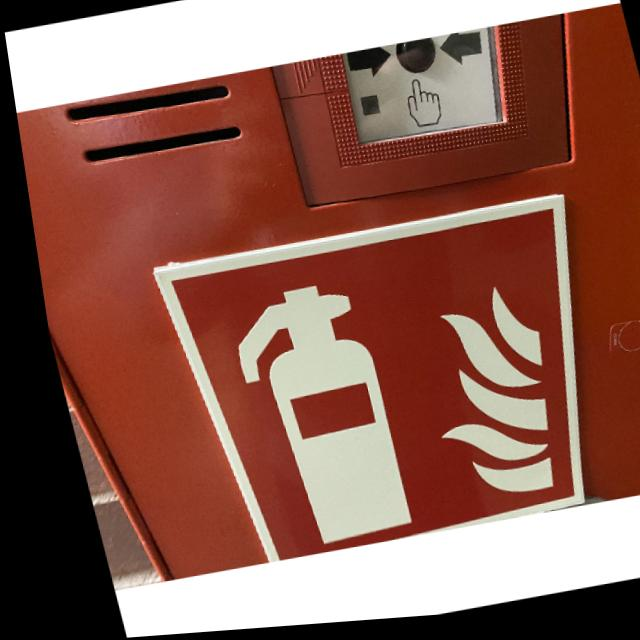fire extinguisher: (138, 201, 627, 574)
